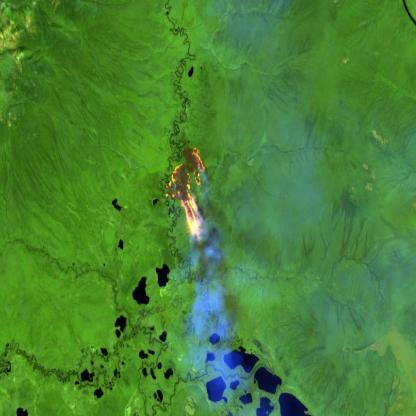fire: (165, 144, 208, 242)
